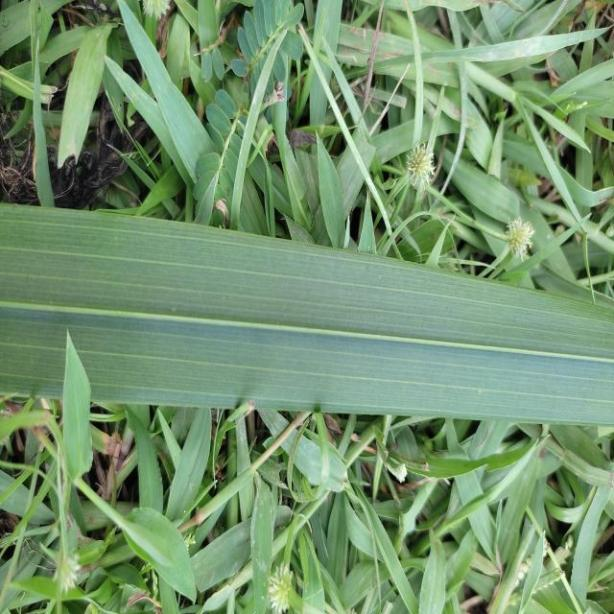Healthy: (0, 200, 614, 424)
